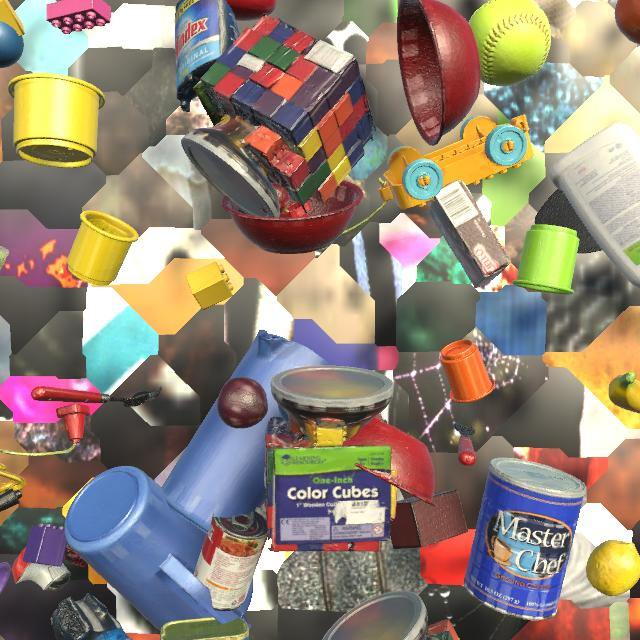ycb_002_master_chef_can: (463, 458, 587, 620)
ycb_005_tomato_soup_can: (193, 507, 269, 611)
ycb_008_pudding_box: (429, 180, 511, 288)
ycb_010_potted_meat_can: (160, 617, 249, 640)
ycb_011_banana: (608, 371, 640, 414)
ycb_013_apple: (226, 0, 276, 21)
ycb_014_lemon: (586, 540, 640, 596)
ycb_017_orange: (615, 0, 640, 44)
ycb_018_plum: (217, 377, 268, 429)
